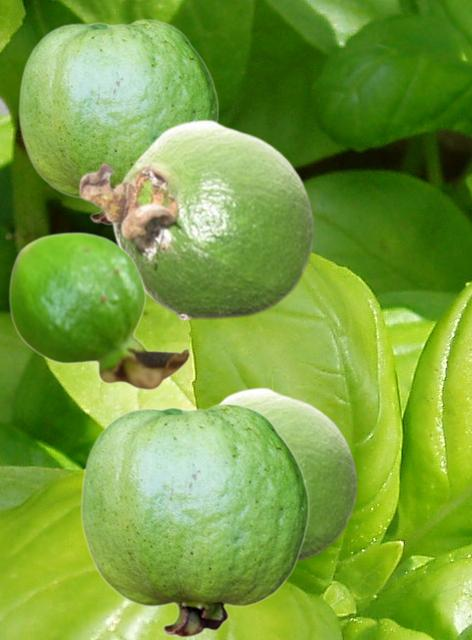guava: (80, 403, 309, 637), (77, 118, 315, 320), (18, 19, 218, 224), (8, 231, 190, 390), (218, 386, 358, 562)
